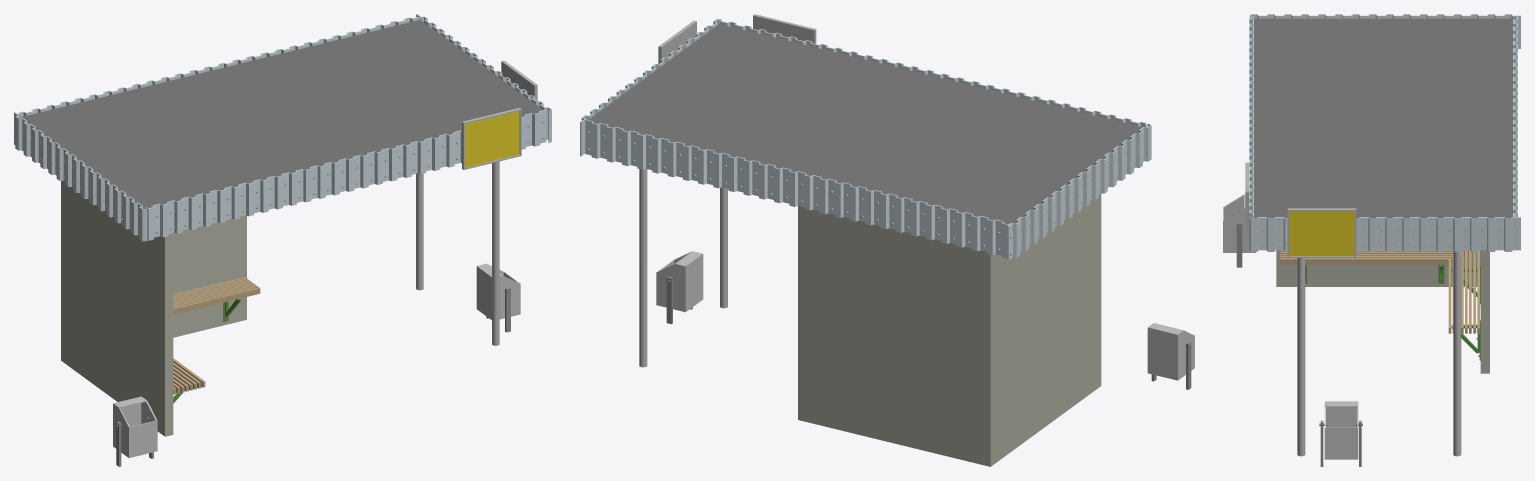
Rendered from Bus_Stop_no_sign.fbx.
3 renders of one model, left to right at view 1: azimuth 30°, elevation 25°; view 2: azimuth 150°, elevation 25°; view 3: azimuth 270°, elevation 25°, orthographic. The views are drawn at different scales.
Visible parts, largest first — view 1: Куб, Плоскость.001, Цилиндр.001, Куб.004, Куб.001; view 2: Куб, Плоскость.001, Цилиндр.001, Куб.004, Куб.001; view 3: Куб, Плоскость.001, Цилиндр.001, Куб.001, Куб.004, Куб.002, Куб.003.
Part boxes in pixels (x1,y1,x2,y2): Куб: (19, 20, 542, 436); Плоскость.001: (14, 14, 551, 241); Цилиндр.001: (416, 161, 499, 345); Куб.004: (113, 396, 157, 457); Куб.001: (476, 263, 520, 319); Куб: (588, 24, 1142, 466); Плоскость.001: (580, 14, 1151, 260); Цилиндр.001: (639, 169, 727, 367); Куб.004: (1147, 323, 1194, 380); Куб.001: (656, 251, 703, 312); Куб: (1254, 18, 1512, 373); Плоскость.001: (1245, 14, 1520, 257); Цилиндр.001: (1297, 251, 1461, 456); Куб.001: (1324, 401, 1358, 459); Куб.004: (1223, 194, 1255, 252); Куб.002: (1319, 420, 1362, 466); Куб.003: (1236, 210, 1242, 267).
Bounding box in the file's own units: 643 × 353 × 363.
